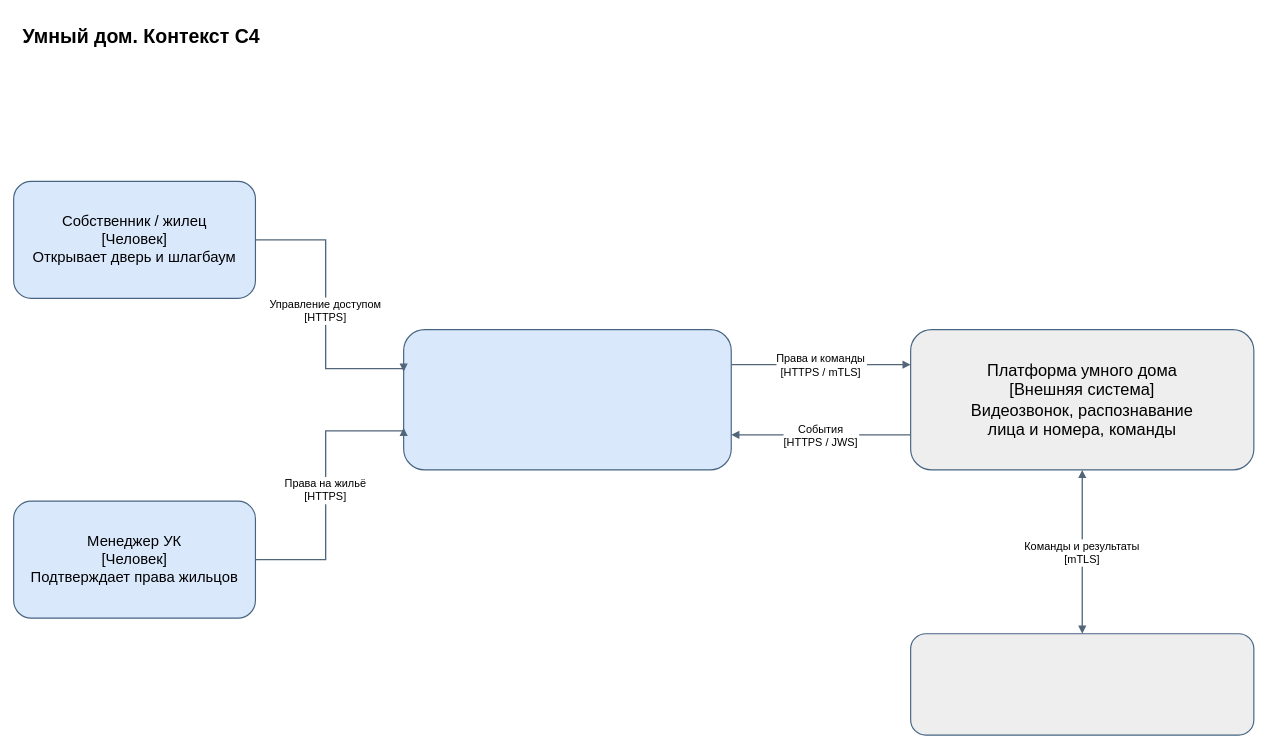
Image size: 1268x749. Some labels were removed from this diagram. Here are the shapes that lost their labels. From the top down, the centre of each, then its label:
At (x=567, y=399): "PropDevelopment [Программная система] Умный дом в текущем мобильном приложении".
At (x=1082, y=684): "Домофон и шлагбаум [Устройства партнёра]".
